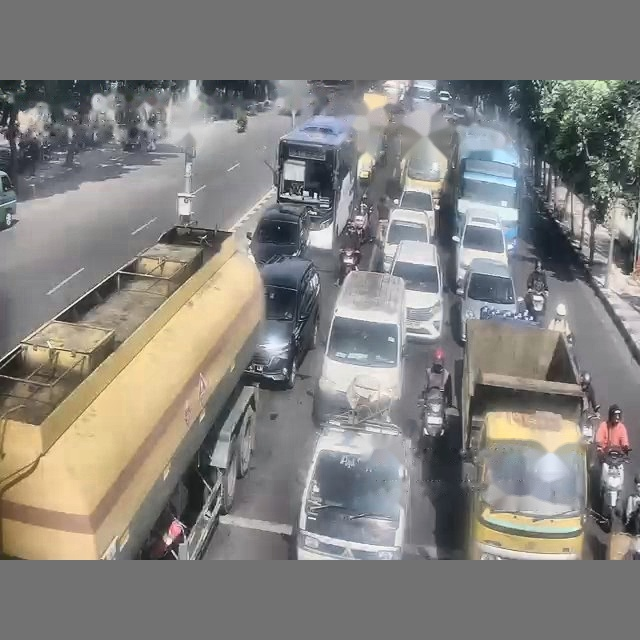Bis: (274, 116, 357, 250)
Mobil: (294, 419, 410, 559), (245, 256, 320, 388), (456, 259, 523, 342), (391, 241, 443, 340), (452, 214, 508, 285), (246, 203, 310, 265), (382, 208, 432, 272), (394, 189, 437, 232), (0, 171, 16, 228), (438, 90, 452, 103)
Motor: (600, 447, 628, 529), (418, 387, 446, 449), (580, 407, 599, 470), (338, 247, 360, 284), (526, 288, 547, 321), (353, 206, 371, 243), (236, 119, 246, 132)
Truk: (0, 226, 264, 559), (460, 318, 587, 559)
